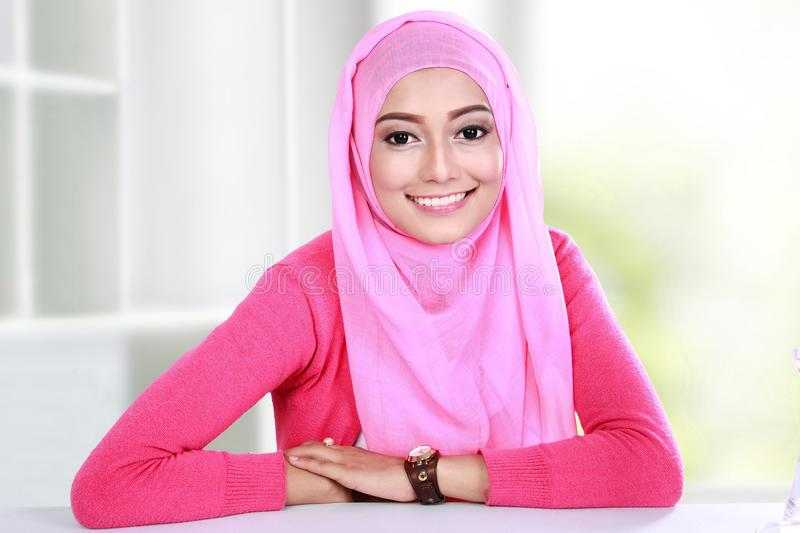No Mask: (354, 61, 546, 278)
